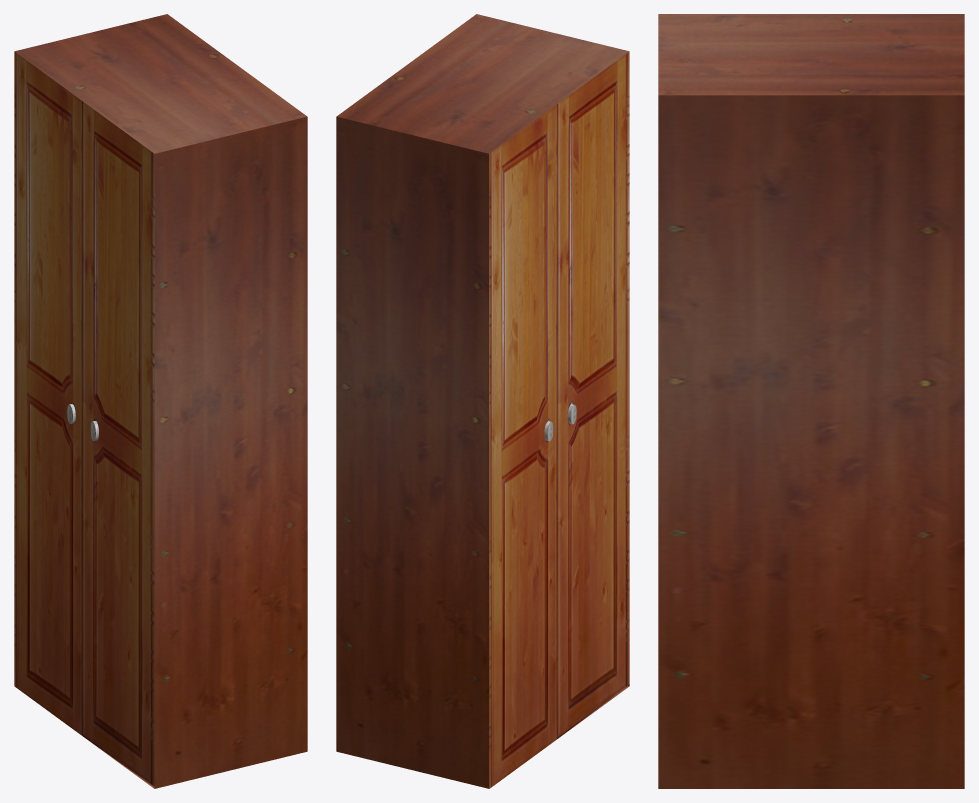
Rendered from shelf.fbx.
3 views of the same model, side by side, from view 1: azimuth 30°, elevation 25°; view 2: azimuth 150°, elevation 25°; view 3: azimuth 270°, elevation 25° (orthographic). The views are drawn at different scales.
Parts seen in each view (by area): view 1: Cube; view 2: Cube; view 3: Cube.
Part boxes in pixels (<box>): Cube: <box>14,14,307,788</box>; Cube: <box>336,14,629,788</box>; Cube: <box>658,14,964,788</box>.
Bounding box in the file's own units: 64.28 × 100 × 250.
1 material, 1 textured.
